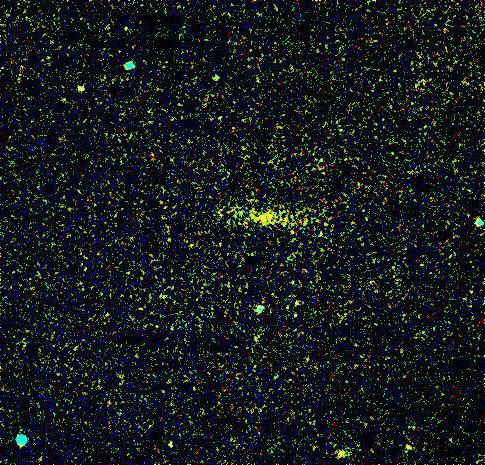star: (327, 438, 357, 465)
